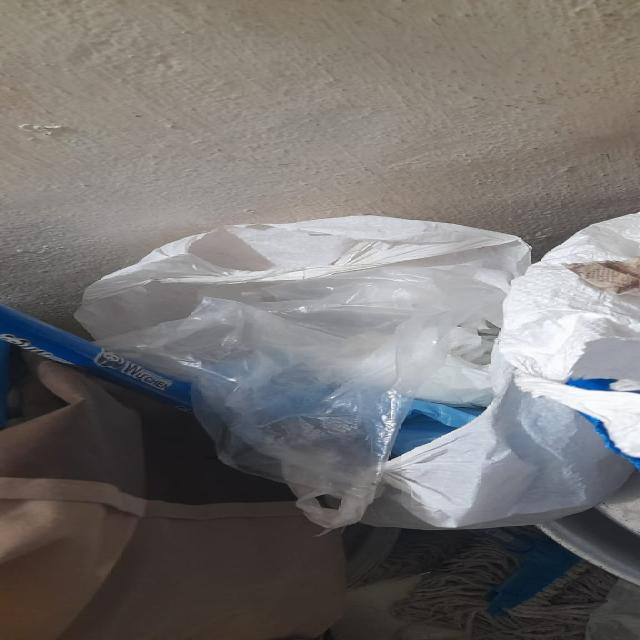Plastic - Recyclable: (56, 195, 632, 546)
